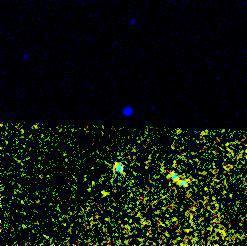star: (92, 182, 122, 212)
